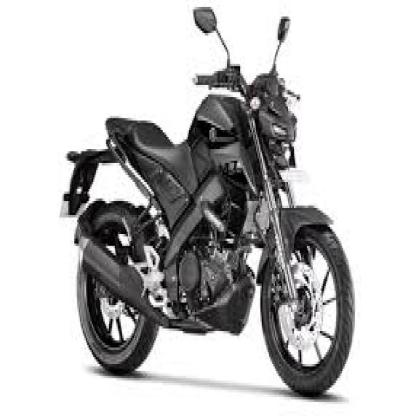bike: (63, 7, 358, 399)
